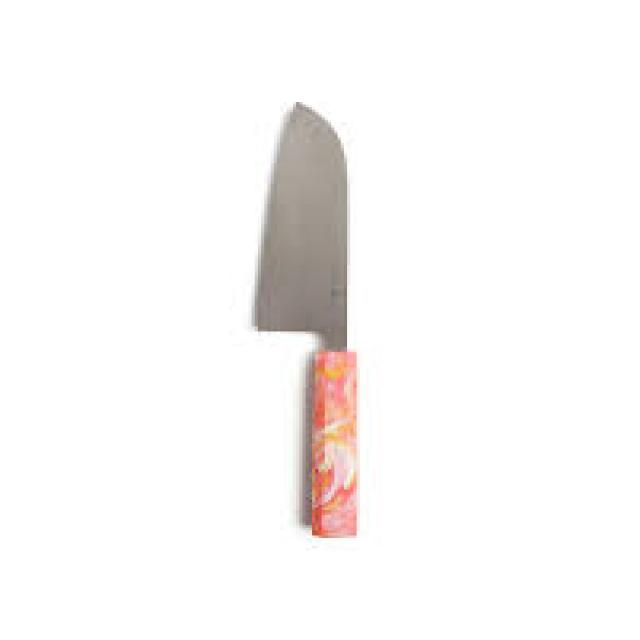knife: (253, 101, 358, 538)
